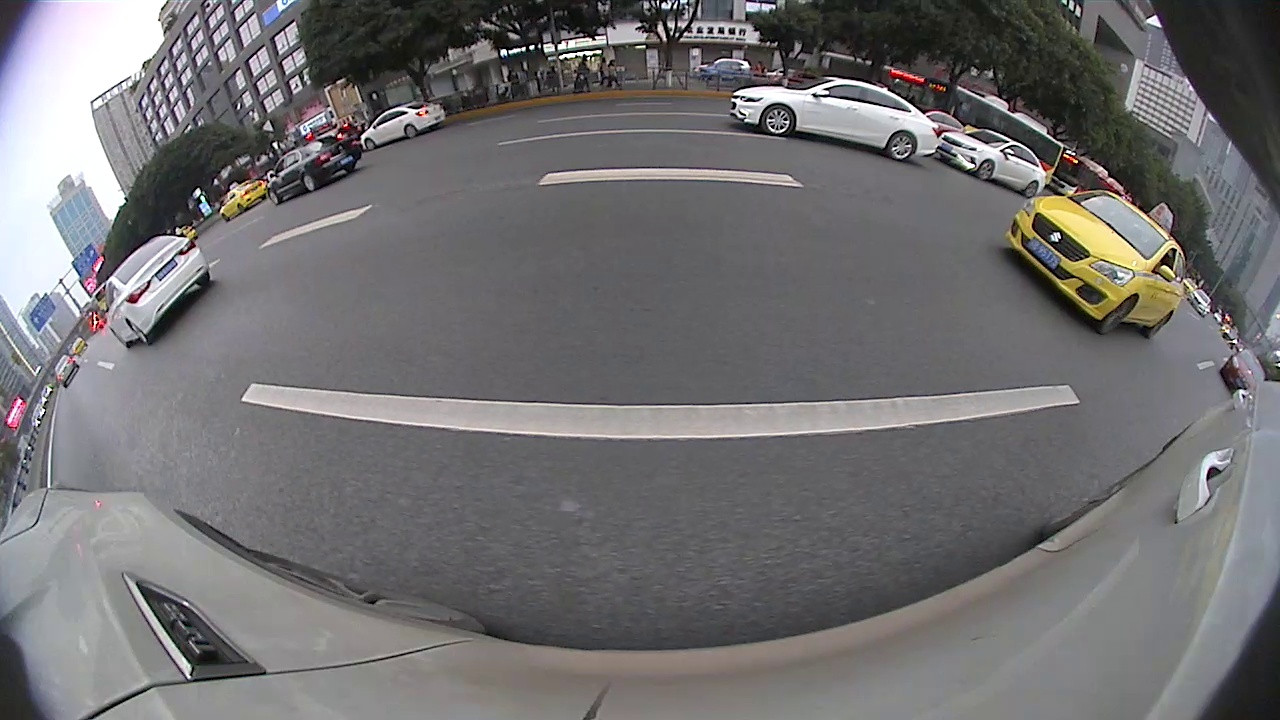bus: (913, 78, 1066, 175), (1048, 151, 1128, 202)
car: (1005, 190, 1187, 340), (728, 73, 937, 161), (104, 235, 211, 350), (935, 128, 1046, 201), (266, 136, 362, 206), (358, 99, 444, 151), (1218, 348, 1268, 395), (218, 178, 269, 224)
front: (1098, 296, 1138, 332), (761, 105, 793, 134), (978, 162, 995, 177), (270, 190, 280, 205), (365, 138, 375, 150)
rear: (1147, 312, 1174, 336), (891, 131, 913, 160), (127, 320, 151, 343), (1024, 182, 1038, 197), (303, 175, 316, 191), (404, 126, 417, 138)
